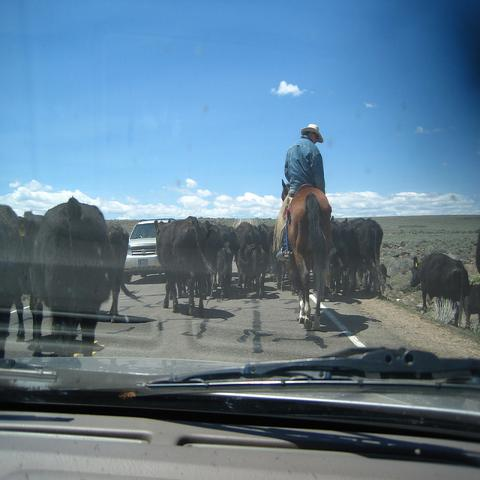car: (123, 219, 176, 284)
